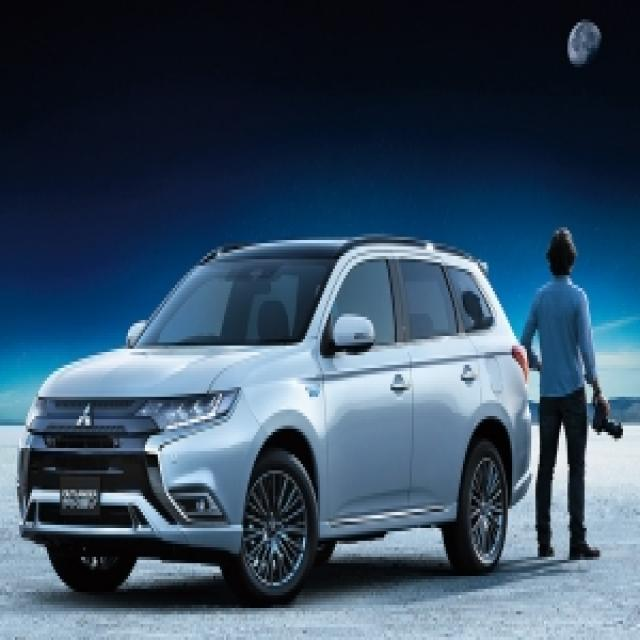light_vehicle: (16, 236, 534, 606)
